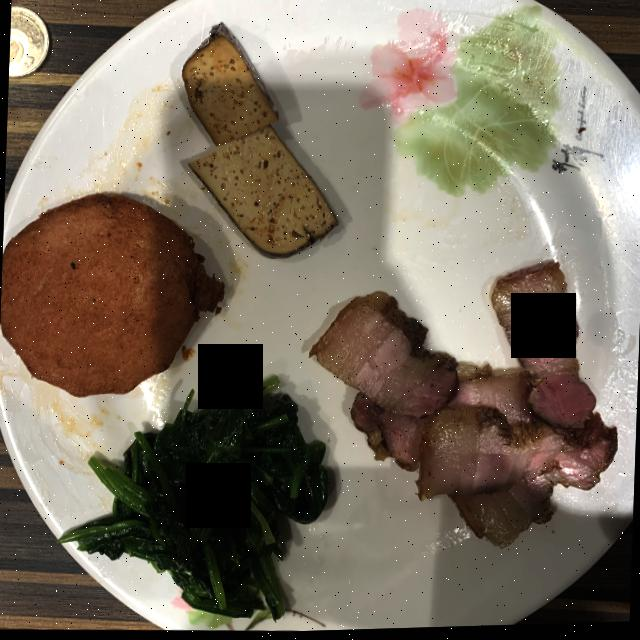Spam: (0, 195, 223, 396)
coin: (8, 5, 49, 77)
firm tofu: (181, 24, 337, 259)
grilled pork: (310, 266, 617, 550)
mustard greens: (59, 376, 328, 621)
